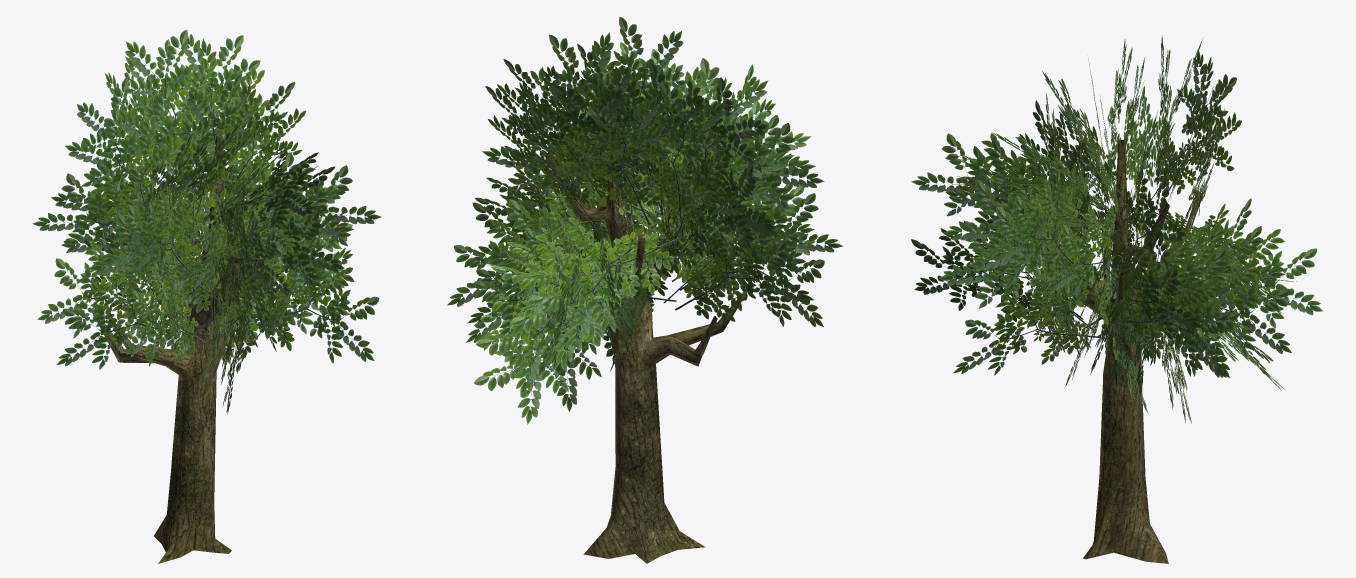
The model's file is tree1LOD.FBX.
3 renders of one model, left to right at view 1: azimuth 30°, elevation 25°; view 2: azimuth 150°, elevation 25°; view 3: azimuth 270°, elevation 25°, orthographic. The views are drawn at different scales.
Parts seen in each view (by area): view 1: backfaceleaves, tree1UV; view 2: backfaceleaves, tree1UV; view 3: backfaceleaves, tree1UV.
Boxes of the visible parts, x1,y1,x2,y2 form: backfaceleaves: (32, 30, 381, 414); tree1UV: (92, 132, 278, 563); backfaceleaves: (447, 17, 843, 424); tree1UV: (536, 101, 756, 563); backfaceleaves: (911, 35, 1323, 423); tree1UV: (960, 140, 1201, 563).
Size of the model in its own units: 624 by 676 by 855.
